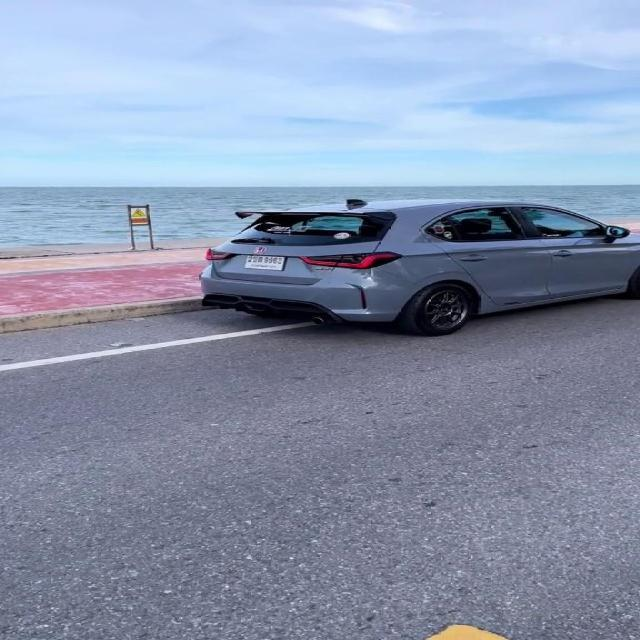Hatchback: (199, 199, 639, 336)
